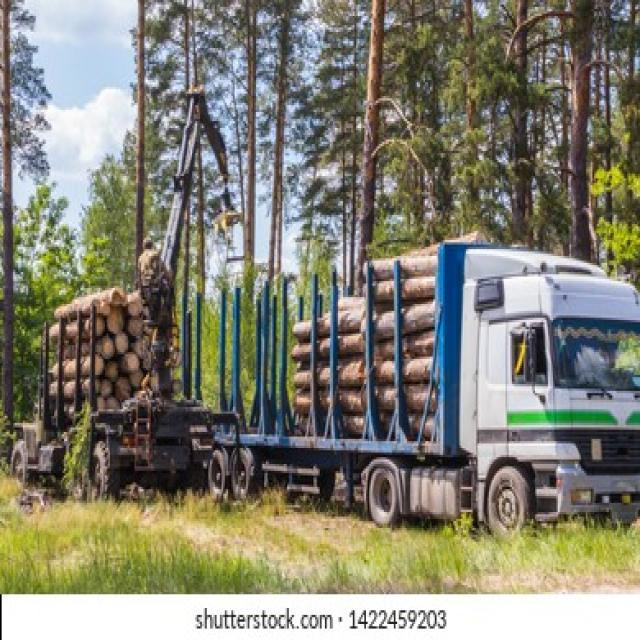Truck: (204, 206, 640, 506)
